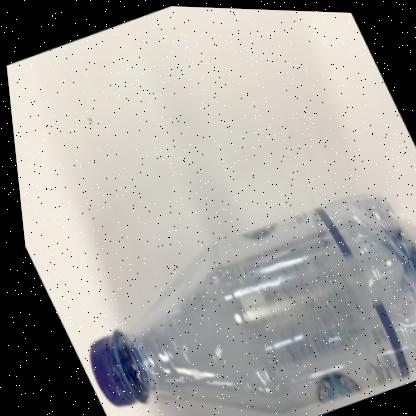Plastic: (82, 192, 416, 411)
